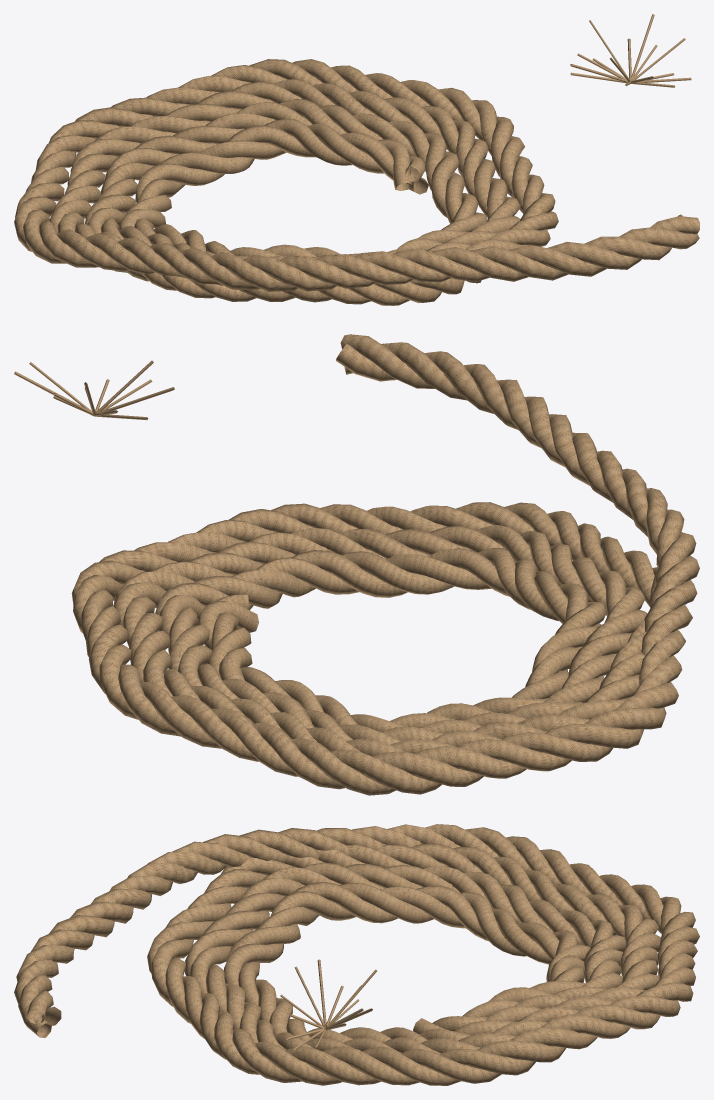
Rendered from cordel_canamo_v003_candidate.glb.
The picture shows the model from 3 angles, top to bottom: view 1: azimuth 30°, elevation 25°; view 2: azimuth 150°, elevation 25°; view 3: azimuth 270°, elevation 25°; orthographic projection. The views are drawn at different scales.
Parts seen in each view (by area): view 1: canamo | coil 1 | twisted ply 2, canamo | coil 1 | twisted ply 3, canamo | coil 1 | twisted ply 1; view 2: canamo | coil 1 | twisted ply 3, canamo | coil 1 | twisted ply 2, canamo | coil 1 | twisted ply 1; view 3: canamo | coil 1 | twisted ply 3, canamo | coil 1 | twisted ply 2, canamo | coil 1 | twisted ply 1.
Part boxes in pixels (<box>): canamo | coil 1 | twisted ply 2: <box>15,65,699,304</box>; canamo | coil 1 | twisted ply 3: <box>23,59,699,303</box>; canamo | coil 1 | twisted ply 1: <box>14,59,683,305</box>; canamo | coil 1 | twisted ply 3: <box>71,342,699,794</box>; canamo | coil 1 | twisted ply 2: <box>73,334,696,789</box>; canamo | coil 1 | twisted ply 1: <box>81,343,697,795</box>; canamo | coil 1 | twisted ply 3: <box>18,826,697,1085</box>; canamo | coil 1 | twisted ply 2: <box>16,824,699,1085</box>; canamo | coil 1 | twisted ply 1: <box>14,824,695,1085</box>.
Size of the model in its own units: 0.2233 by 0.0598 by 0.2146.
1 material, 1 textured.
